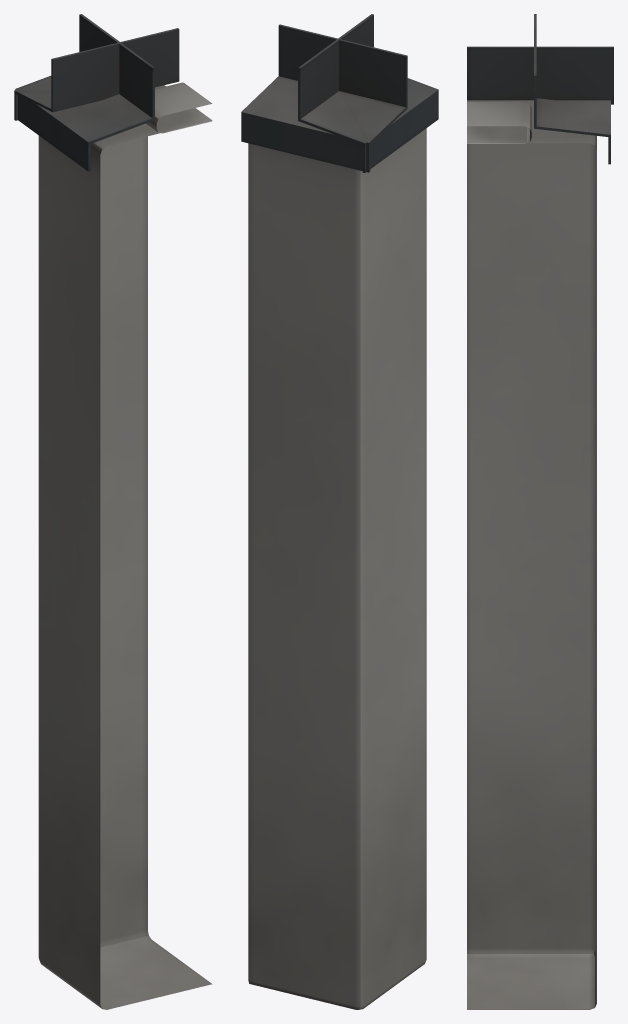
File: Corner_Plinth.fbx
3 views of the same model, side by side, from view 1: azimuth 30°, elevation 25°; view 2: azimuth 150°, elevation 25°; view 3: azimuth 270°, elevation 25° (orthographic).
Parts seen in each view (by area): view 1: Corner_Plinth_LOD0; view 2: Corner_Plinth_LOD0; view 3: Corner_Plinth_LOD0.
Part boxes in pixels (x1=…): Corner_Plinth_LOD0: x1=14, y1=14, x2=212, y2=1009; Corner_Plinth_LOD0: x1=241, y1=14, x2=438, y2=1009; Corner_Plinth_LOD0: x1=467, y1=14, x2=613, y2=1009.
Size of the model in its own units: 0.158 by 1.11 by 0.158.
Materials: 1 (1 with a texture image).
